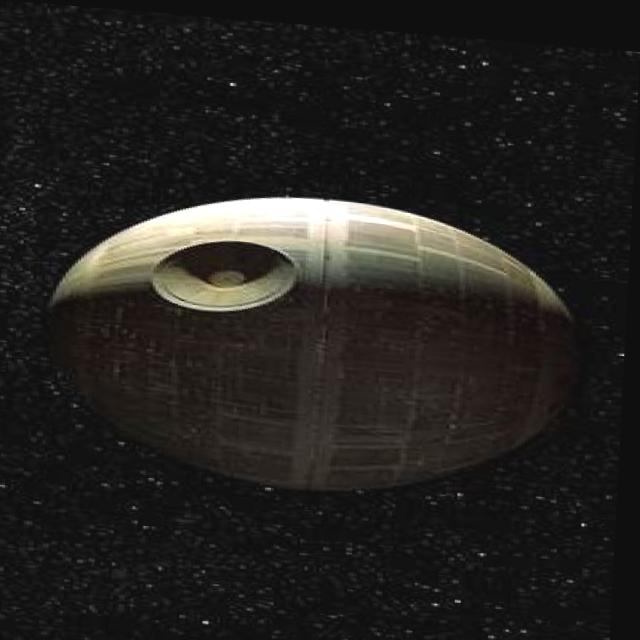deathStar: (38, 173, 586, 501)
